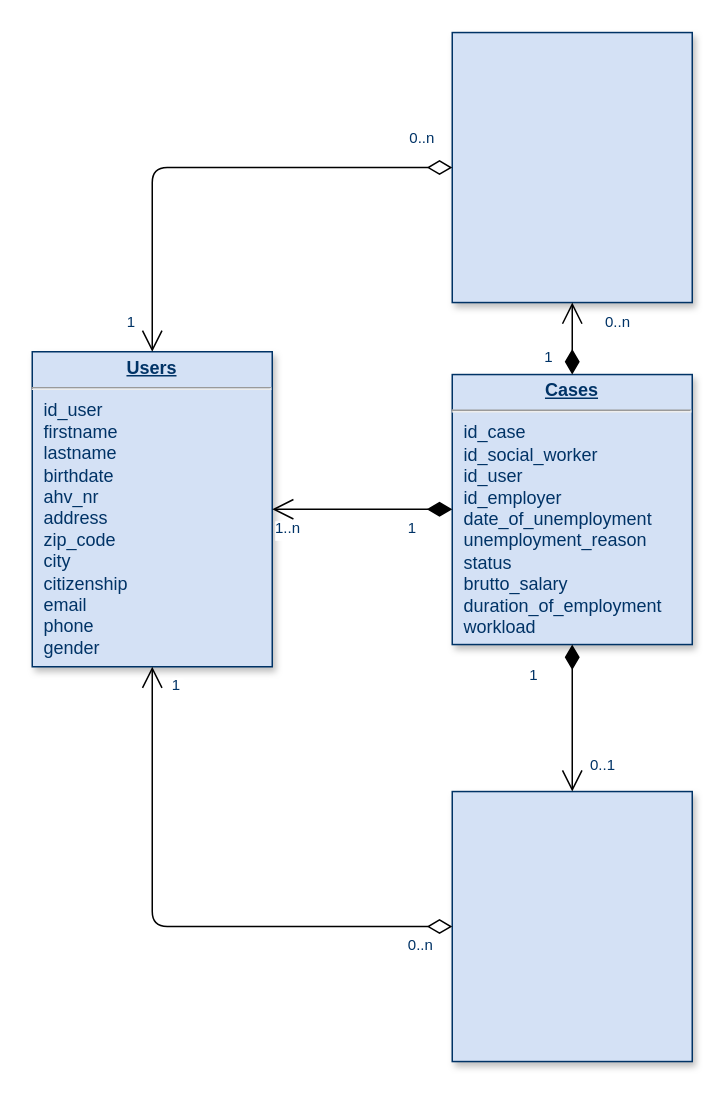
The diagram is 728 pixels wide and 1098 high, and some of its shapes have lost their labels. The shapes that lost their labels are listed below. From the top down, each one's centre as x and y in pixels, then its label:
At pixel 573 169: "Employers id_employer emp_name emp_email".
At pixel 573 928: "Social_worker id_social_worker lastname firstname email".
